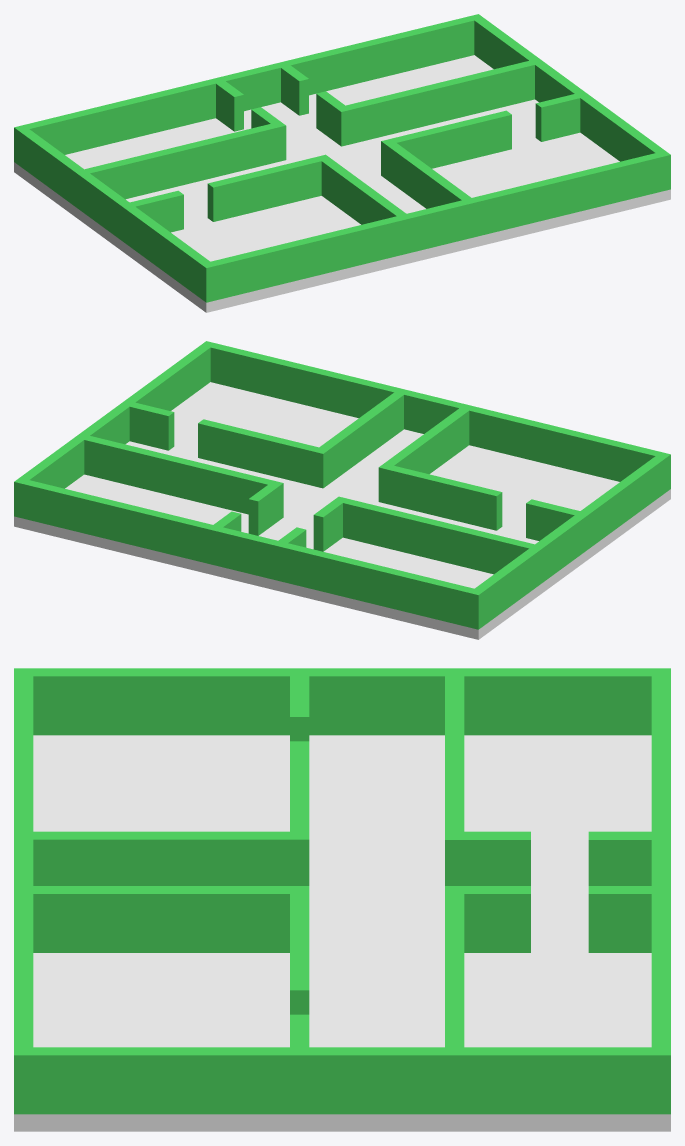
3 views of the same model, one above another, from view 1: azimuth 30°, elevation 25°; view 2: azimuth 150°, elevation 25°; view 3: azimuth 270°, elevation 25° (orthographic). The views are drawn at different scales.
Visible parts, largest first — view 1: Block_All; view 2: Block_All; view 3: Block_All.
Boxes of the visible parts, x1=… form: Block_All: x1=14, y1=14, x2=670, y2=312; Block_All: x1=14, y1=341, x2=670, y2=639; Block_All: x1=14, y1=668, x2=670, y2=1131.
Size of the model in its own units: 47.64 by 4.39 by 34.17.
